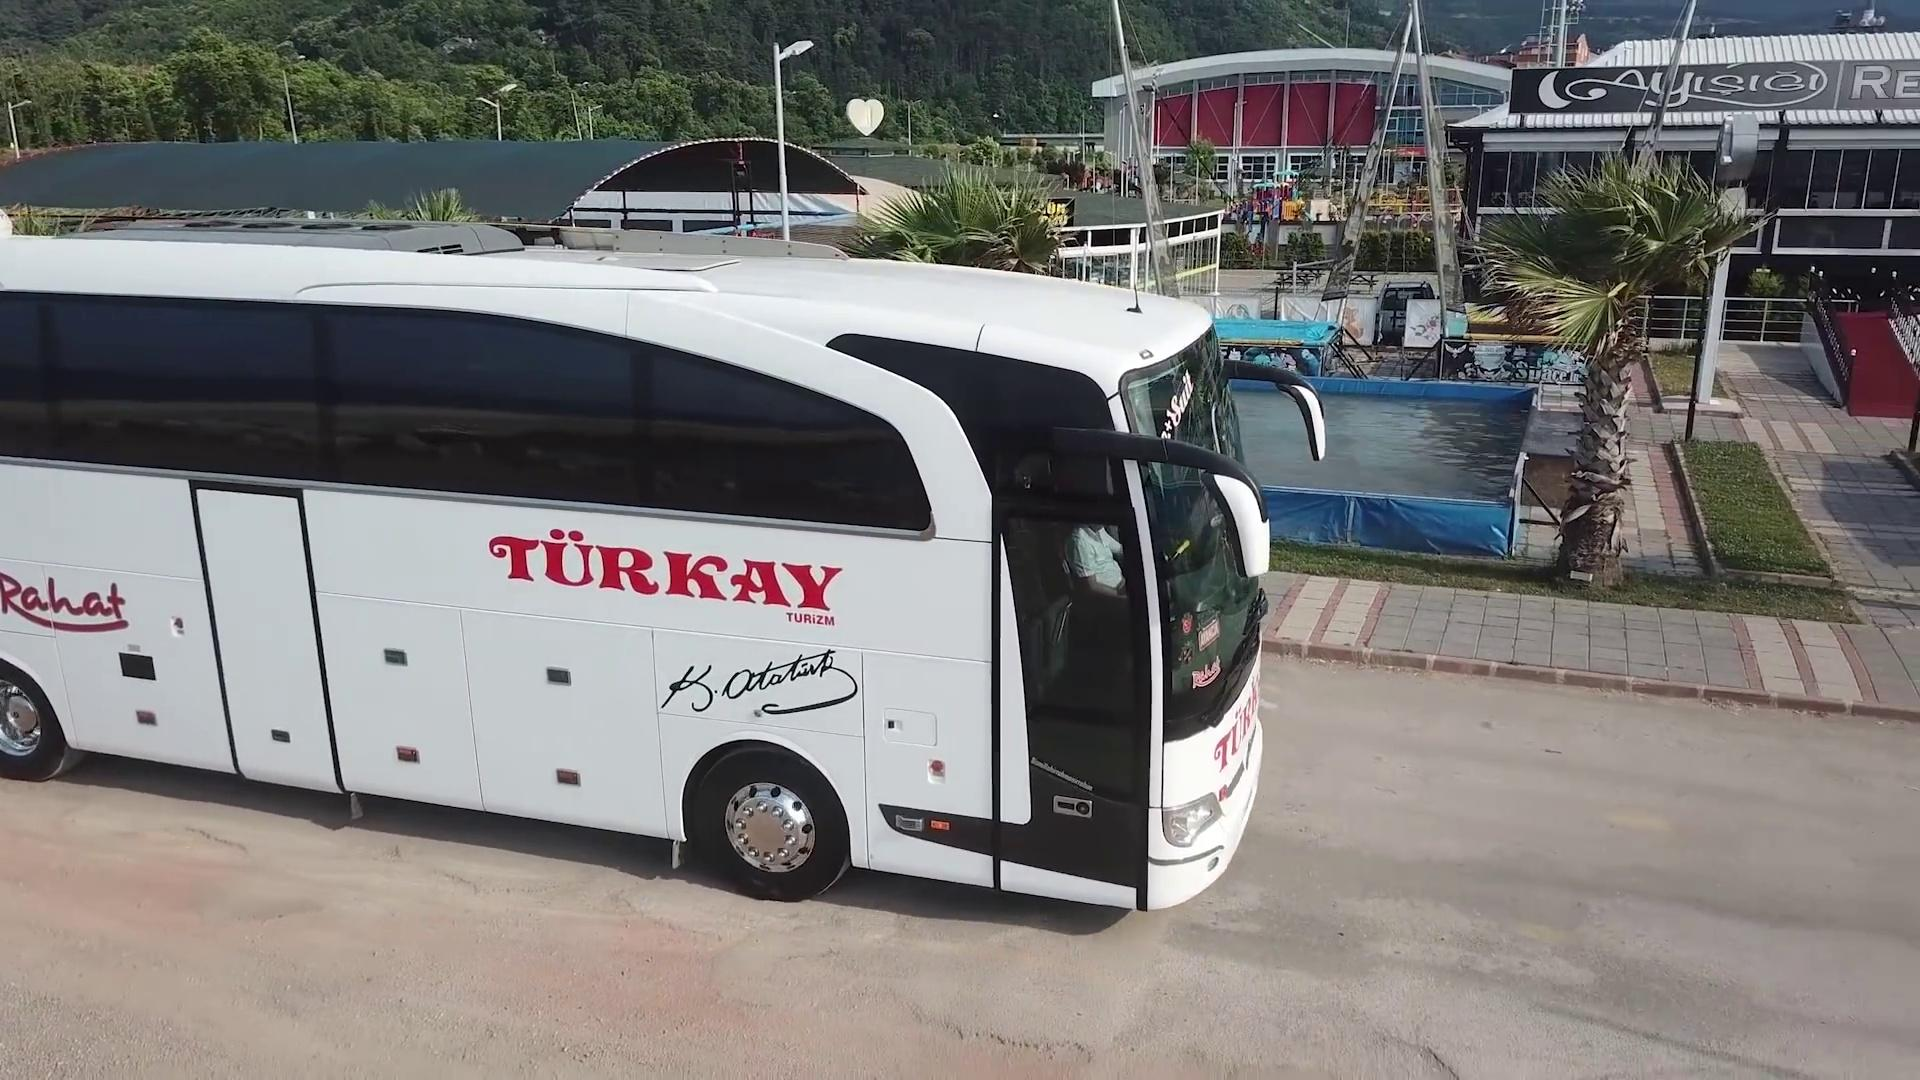Bus: (0, 214, 1323, 913)
